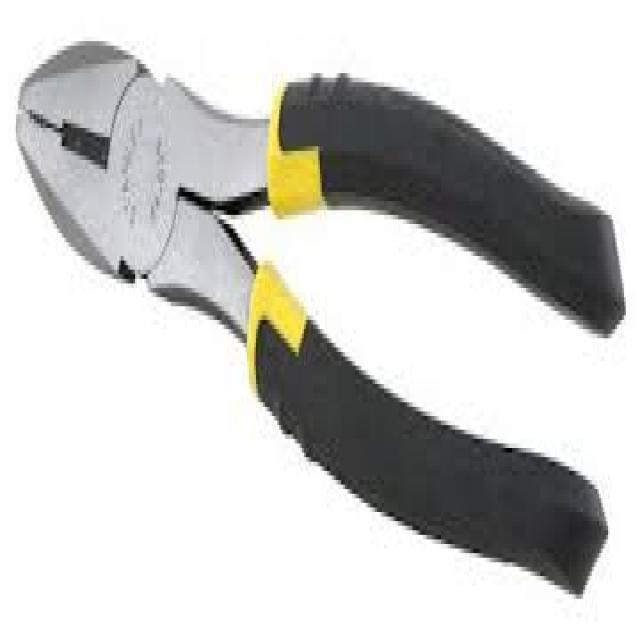pliers: (6, 29, 616, 621)
